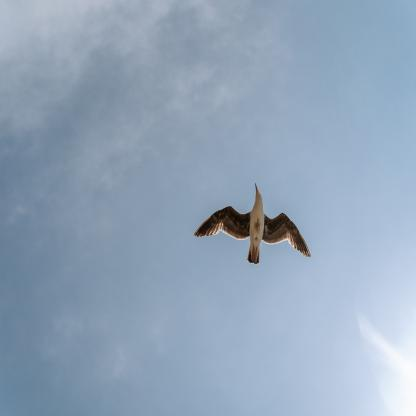bird: (195, 181, 311, 265)
